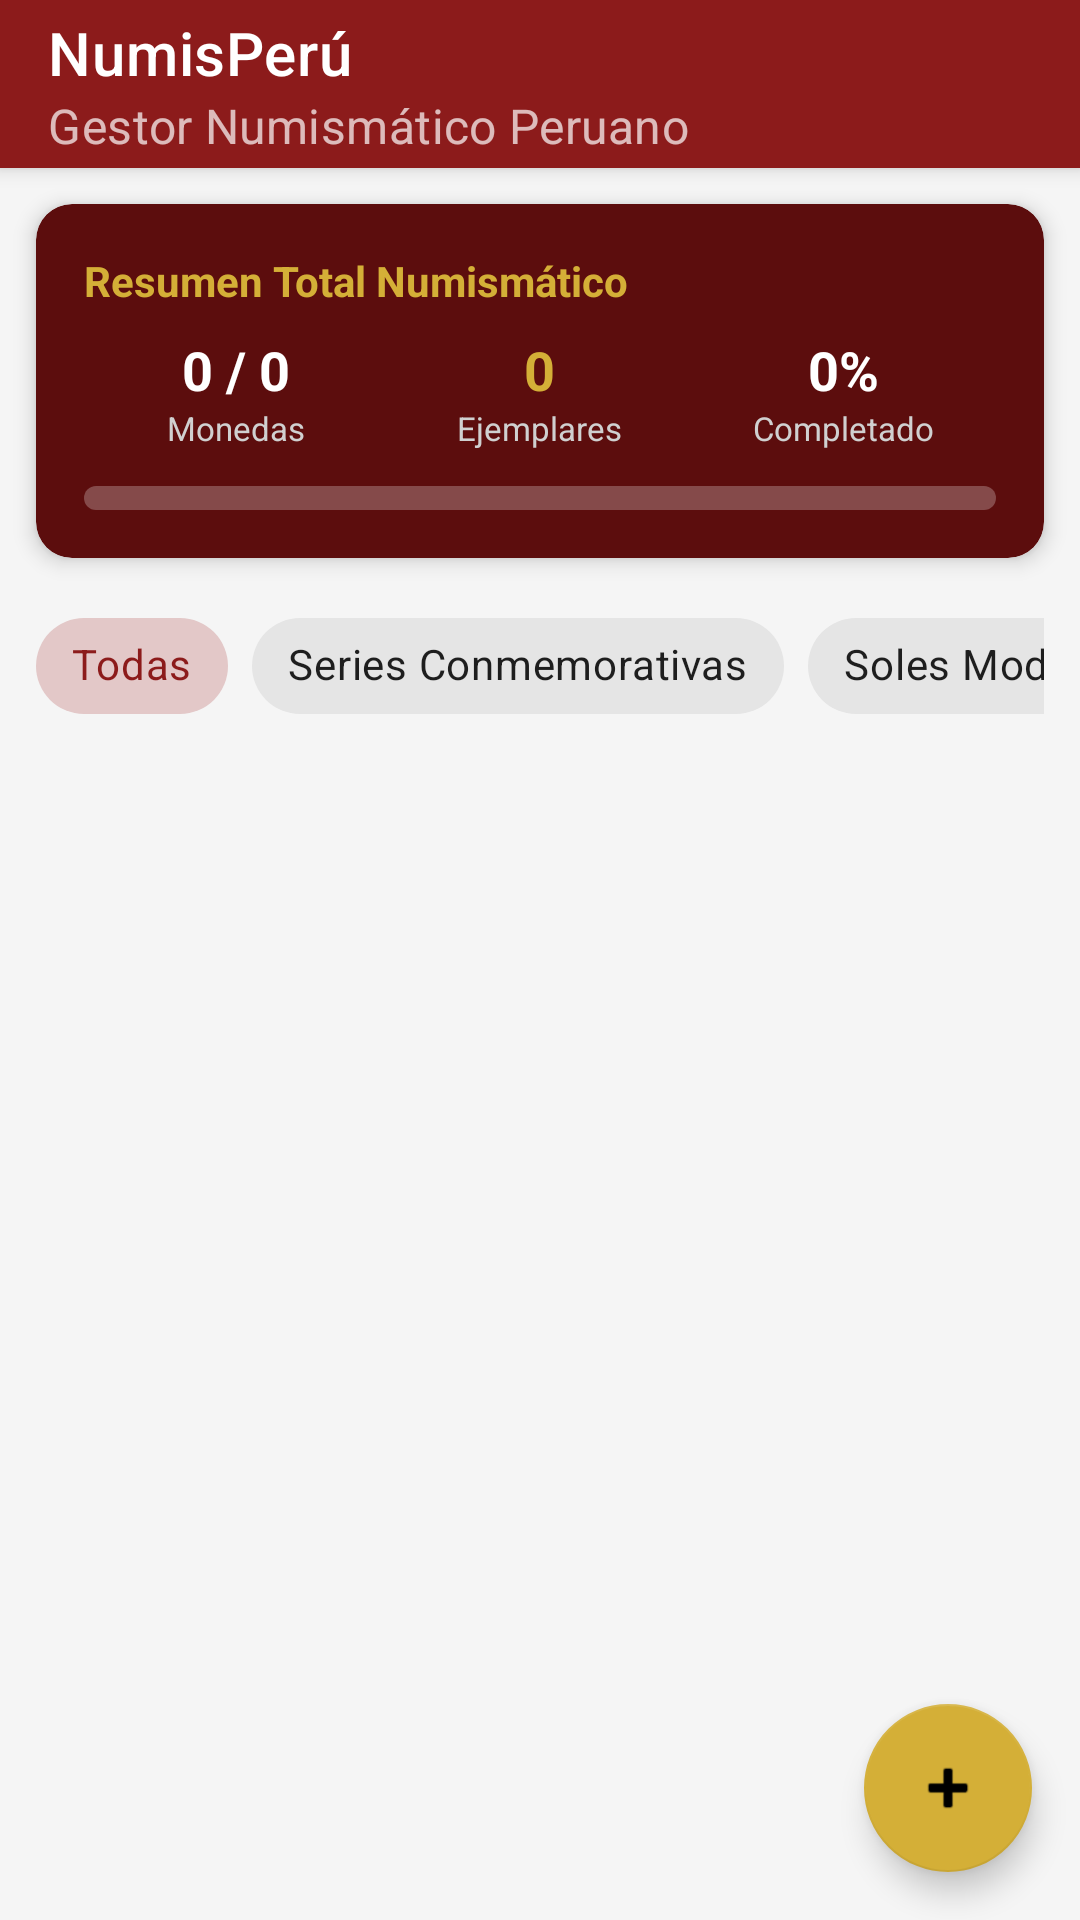

Icon bounding boxes for this 1080*1920 phone screenshot, format (x1, y1, x2, y2):
Crear álbum personalizado: (864, 1704, 1032, 1872)
